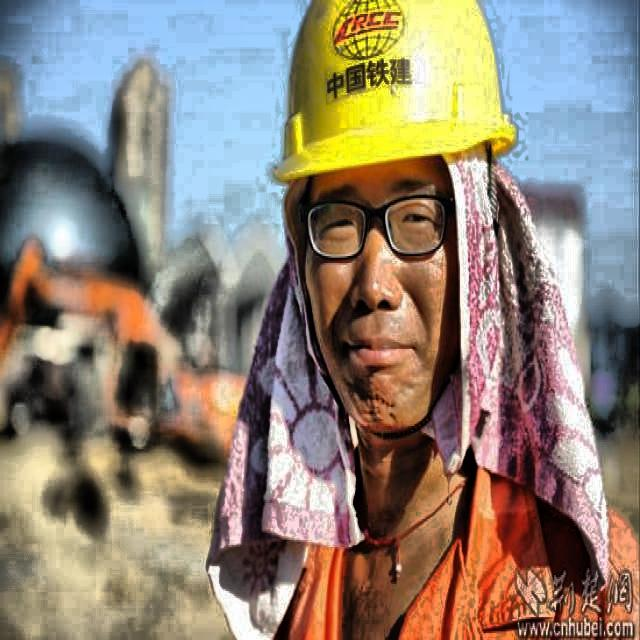person: (212, 0, 620, 640)
